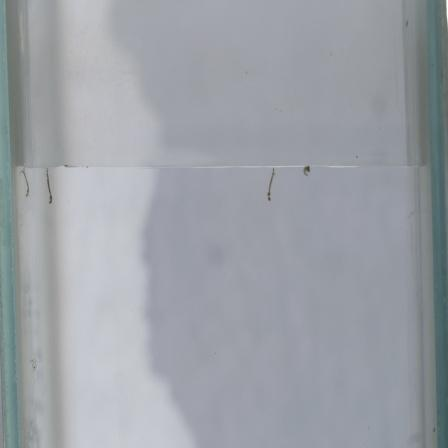Jentik-Nyamuk: (41, 166, 58, 207), (266, 166, 277, 203), (300, 164, 312, 181)
